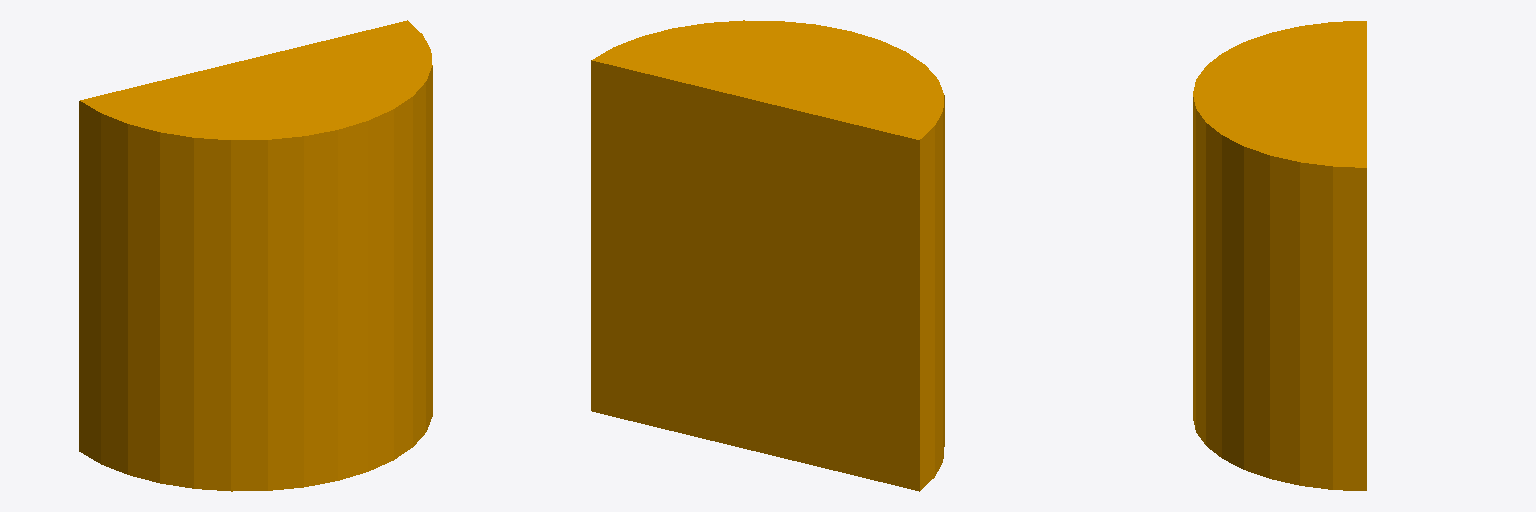
URDF robot description (half-cylinder.urdf):
<?xml version="1.0" encoding="utf-8"?>
<robot name="half-cylinder.urdf">
  <link name="baseLink">
    <contact>
      <lateral_friction value="0.5"/>
      <rolling_friction value="0.001"/>
      <spinning_friction value="0.001"/>
    </contact>
    <inertial>
      <origin rpy="0 0 0" xyz="0 0 0"/>
       <mass value="0.02"/>
       <inertia ixx="1" ixy="0" ixz="0" iyy="1" iyz="0" izz="1"/>
    </inertial>
    <visual>
      <origin rpy="0 0 0" xyz="0 0 0"/>
      <geometry>
         <mesh filename="half-cylinder.obj"/>
      </geometry>
    </visual>
    <collision>
      <origin rpy="0 0 0" xyz="0 0 0"/>
      <geometry>
	 	    <mesh filename="half-cylinder.obj"/>
      </geometry>
    </collision>
  </link>
</robot>

--- Render facts (derived) ---
3 views of the same robot in one strip: view 1: azimuth 30°, elevation 25°; view 2: azimuth 150°, elevation 25°; view 3: azimuth 270°, elevation 25° (orthographic).
Model half-cylinder.urdf with 1 links and 0 joints (none), rooted at baseLink, posed all joints at 0.
Visible links, largest first — view 1: baseLink; view 2: baseLink; view 3: baseLink.
Link boxes in pixels (<box>): baseLink: <box>79,20,432,491</box>; baseLink: <box>591,20,944,491</box>; baseLink: <box>1193,21,1366,490</box>.
Bounding box of the posed robot: 0.044 × 0.022 × 0.045 m (x, y, z).
Meshes: 1 distinct files referenced, 1 mesh visuals loaded (1 OBJ).